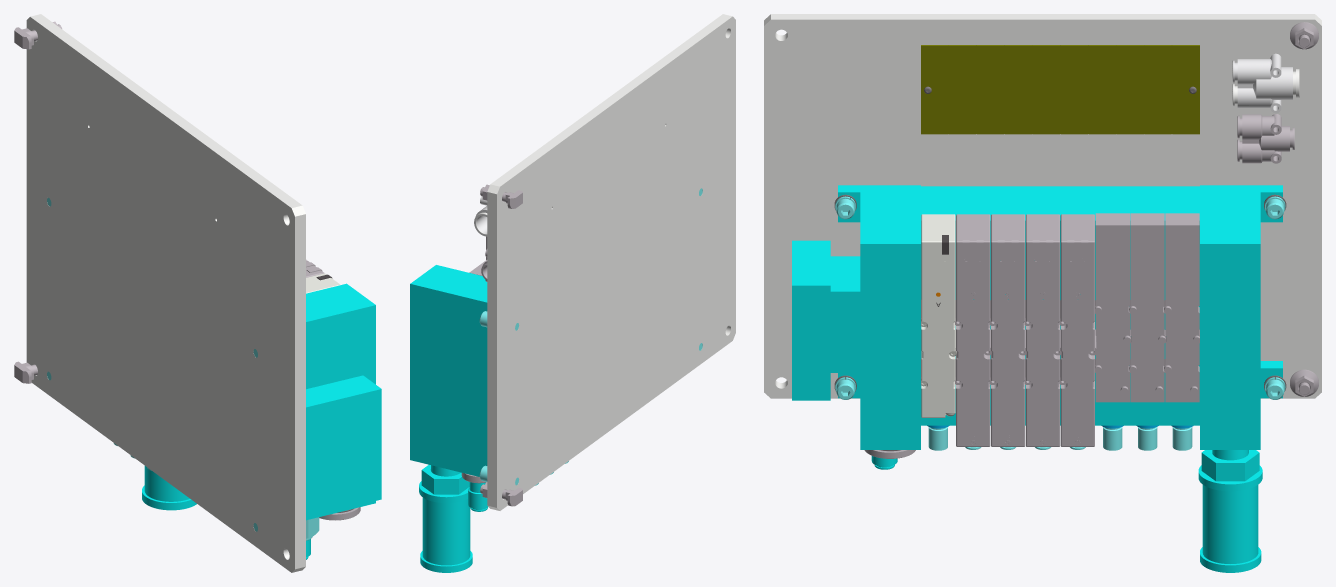
File: ValveTerminal-transformed.glb
3 renders of one model, left to right at view 1: azimuth 30°, elevation 25°; view 2: azimuth 150°, elevation 25°; view 3: azimuth 270°, elevation 25°, orthographic. The views are drawn at different scales.
Parts seen in each view (by area): view 1: AP727515364; view 2: AP727515364; view 3: AP727515364.
Part boxes in pixels (left/top/right/bottom): AP727515364: left=14, top=14, right=381, bottom=572; AP727515364: left=410, top=14, right=735, bottom=572; AP727515364: left=764, top=14, right=1321, bottom=572.
Bounding box in the file's own units: 0.1241 × 0.3915 × 0.4.
1 material, 1 textured.
